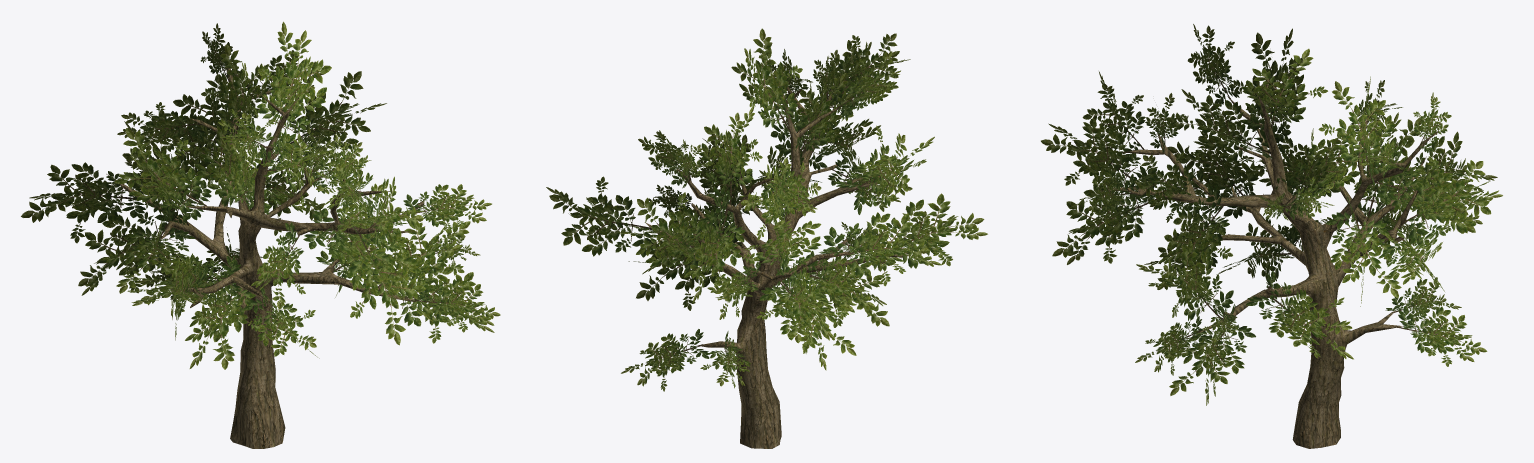
File: walnutTree.dae
The picture shows the model from 3 angles, left to right: view 1: azimuth 30°, elevation 25°; view 2: azimuth 150°, elevation 25°; view 3: azimuth 270°, elevation 25°; orthographic projection. The views are drawn at different scales.
Parts seen in each view (by area): view 1: walnutTree; view 2: walnutTree; view 3: walnutTree.
Part boxes in pixels (x1,y1,x2,y2): walnutTree: (21, 21, 500, 448); walnutTree: (546, 28, 987, 448); walnutTree: (1041, 24, 1502, 448).
Bounding box in the file's own units: 1.36 × 1.46 × 1.56.
1 material, 1 textured.
